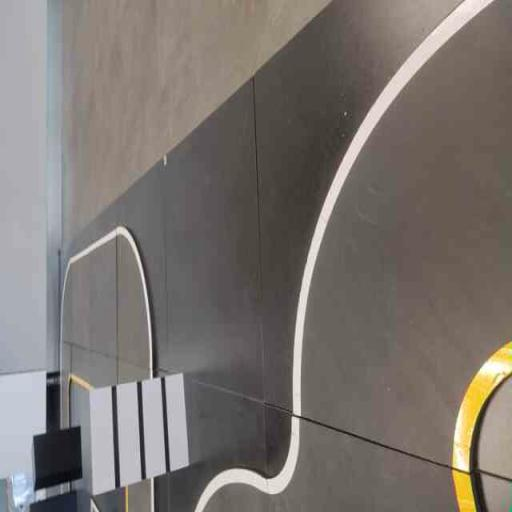left: (287, 4, 511, 474)
